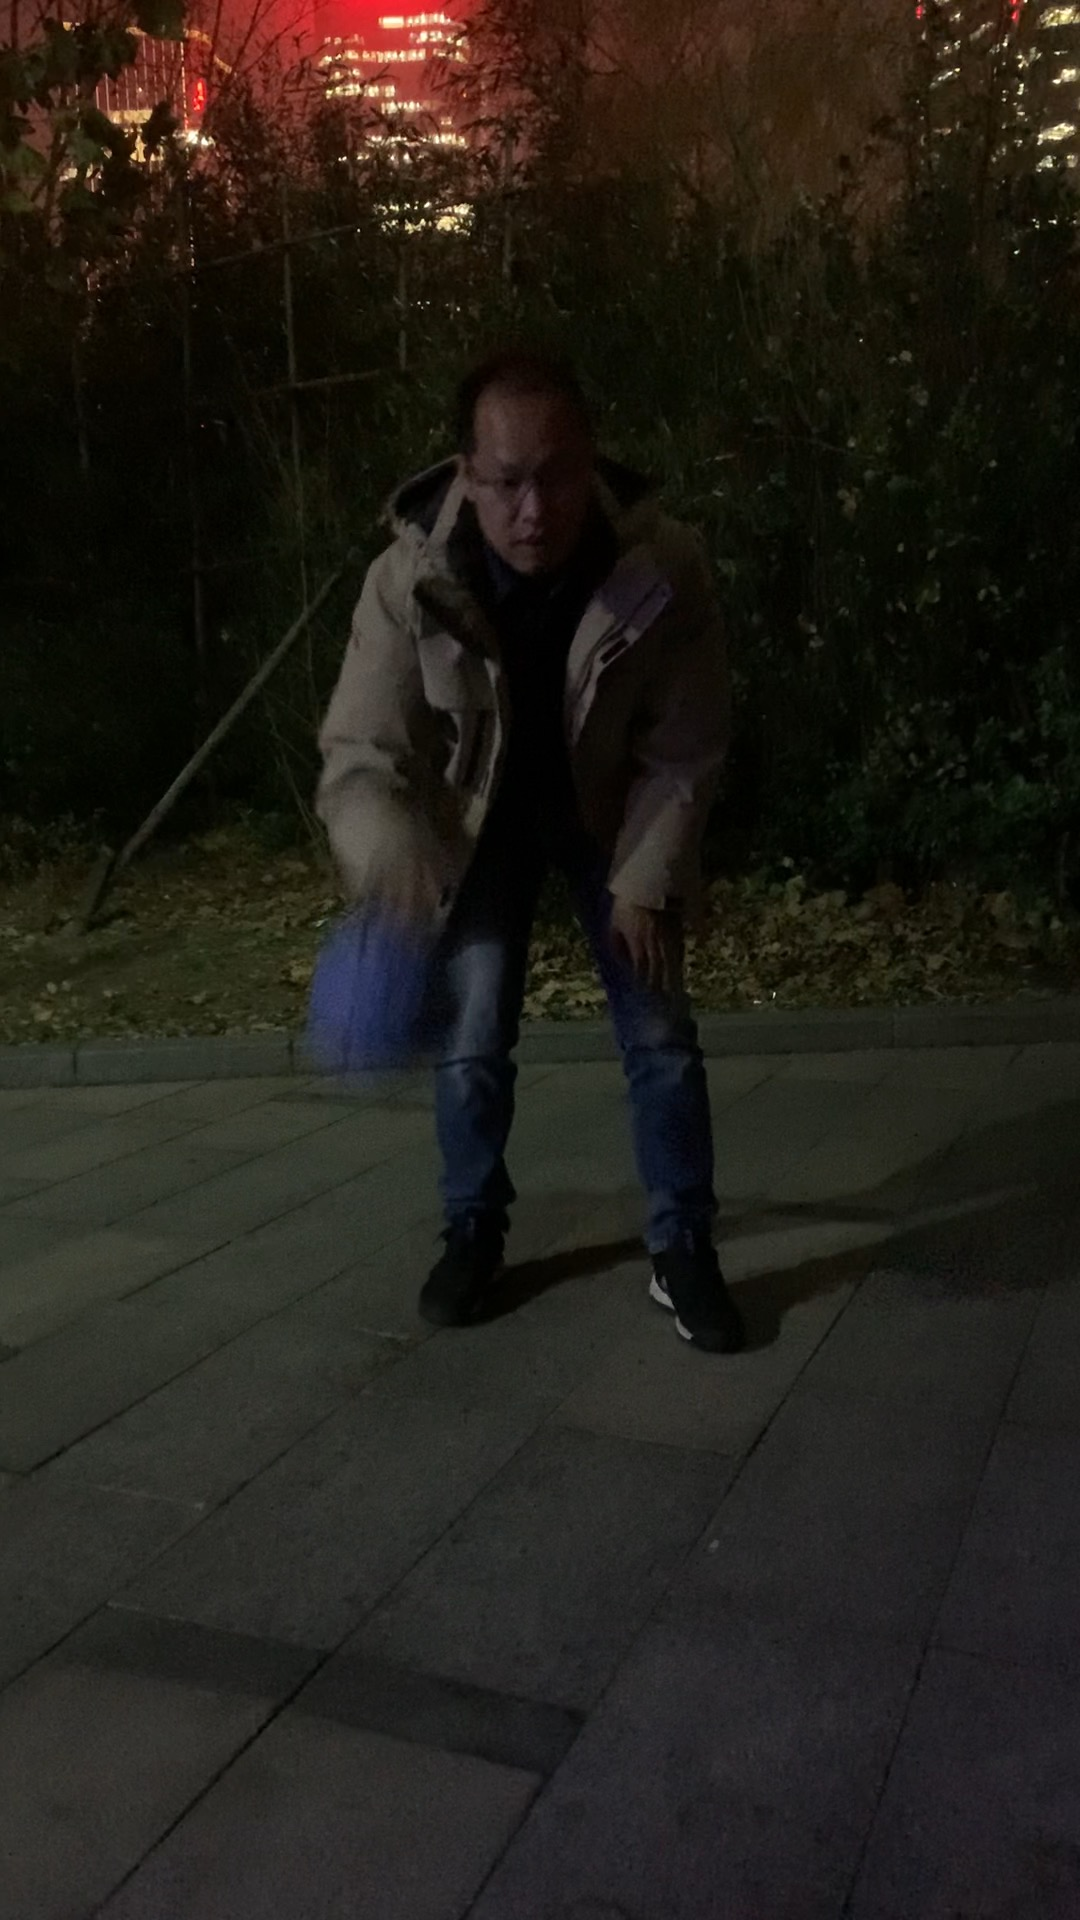ball: (307, 913, 471, 1076)
